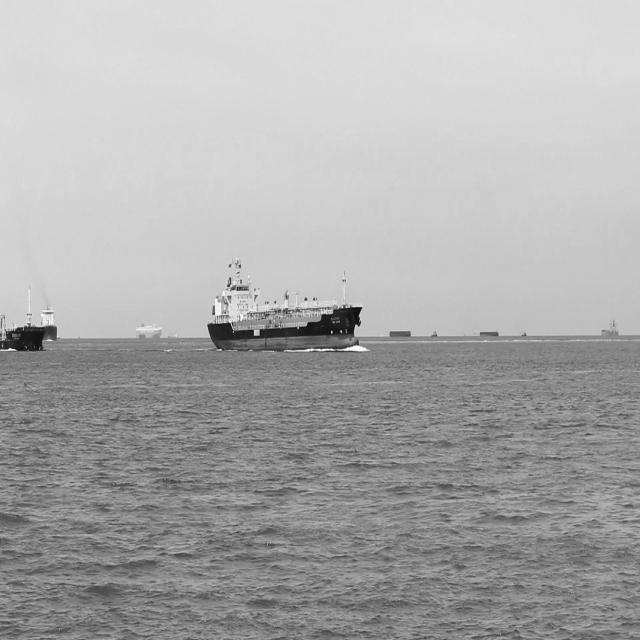ship: (206, 254, 364, 353), (0, 280, 48, 352), (40, 300, 60, 341), (133, 322, 160, 341), (601, 316, 622, 340)
